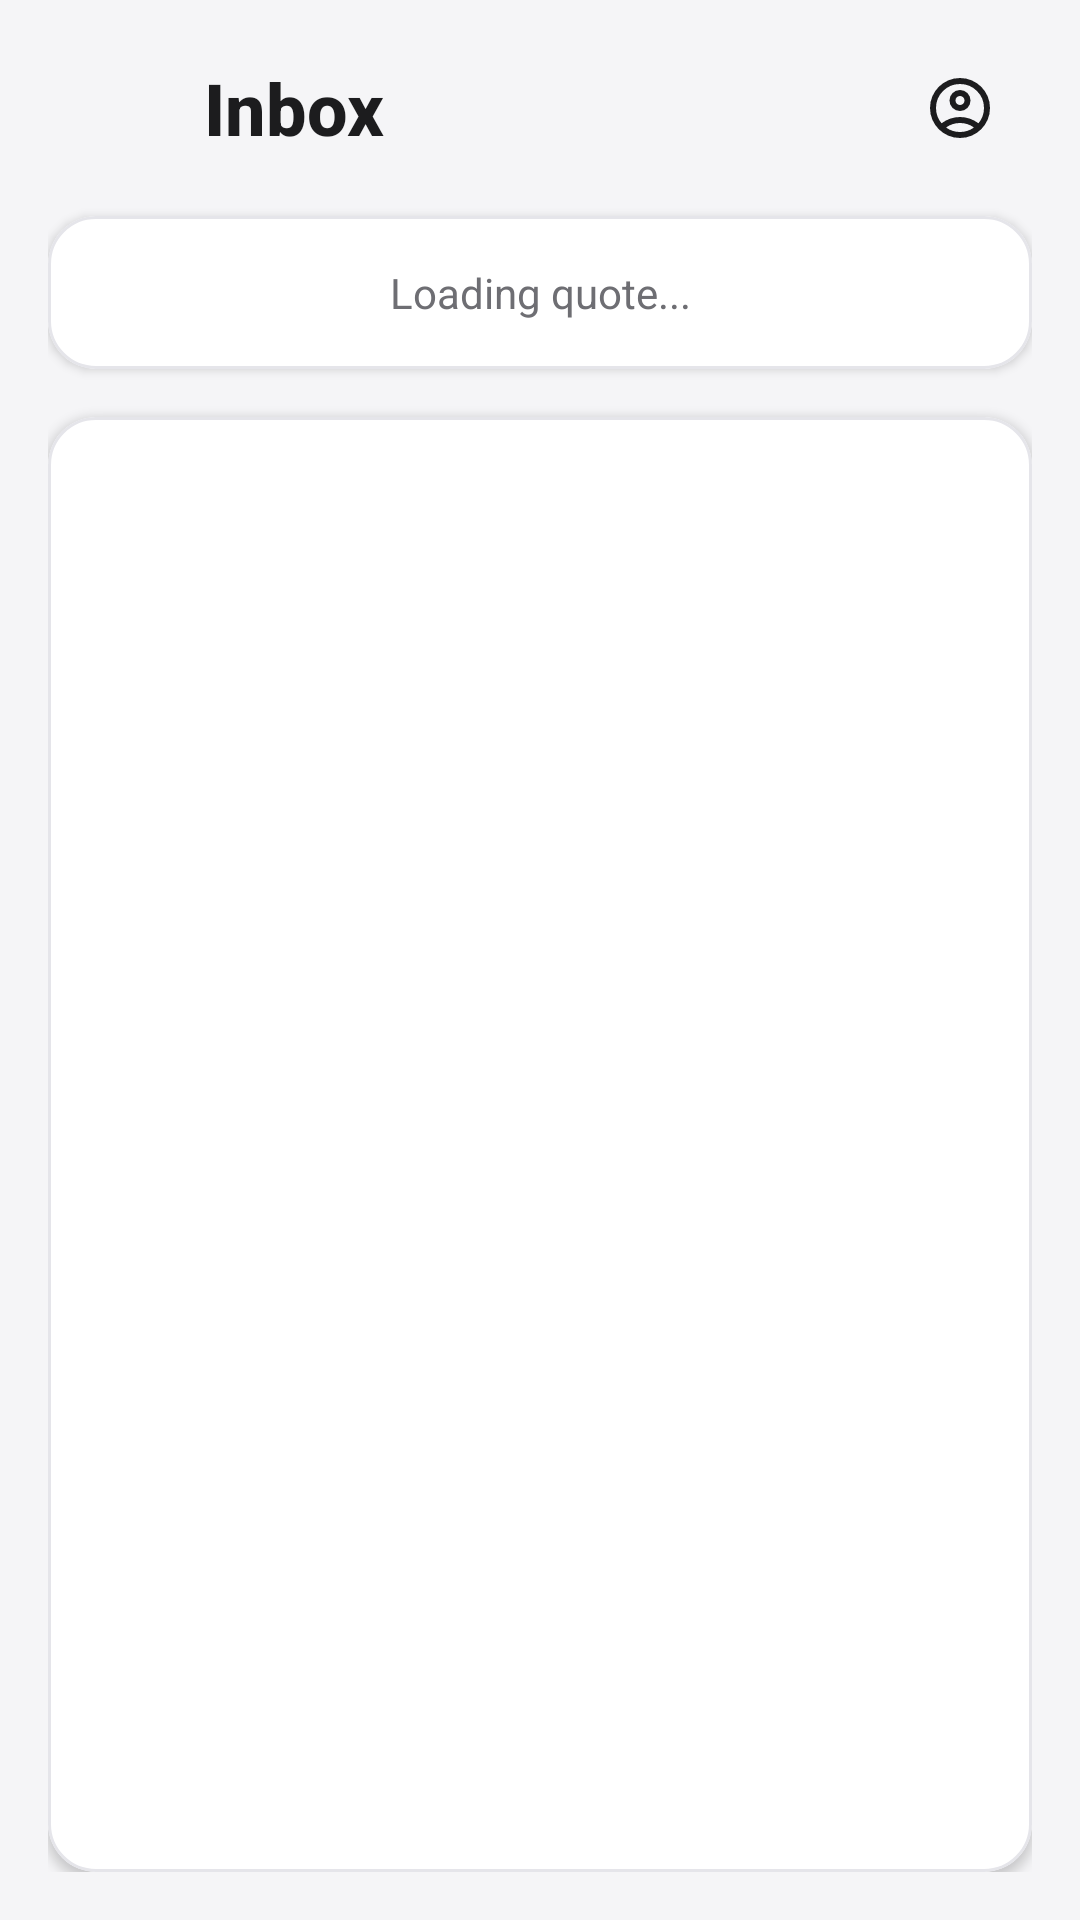

Icons on this 1080px x 1920px Android screen, each with the point to tap as [x,y]:
Profile options: [960,108]
